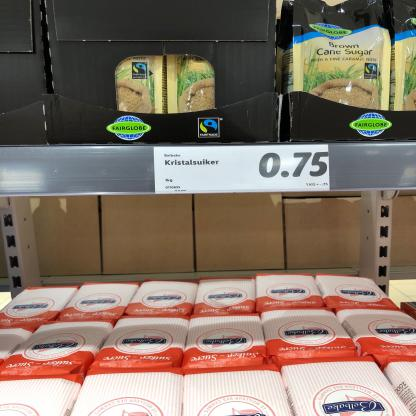prtg: (154, 145, 331, 195)
